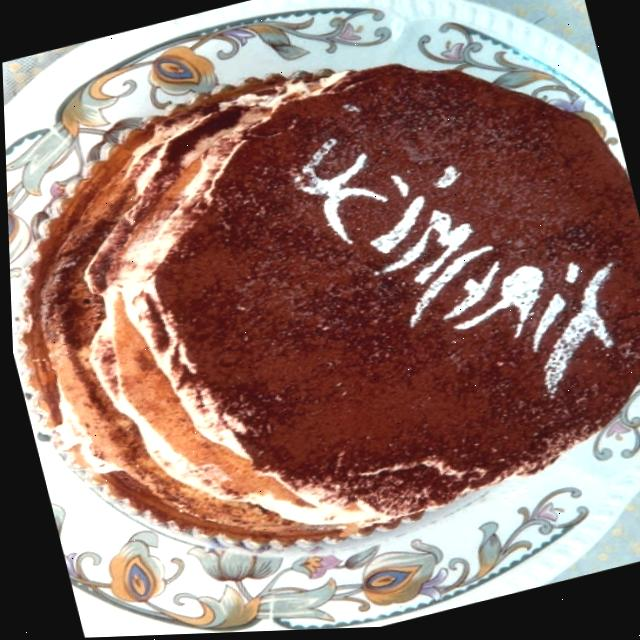蛋糕甜品: (0, 0, 640, 607)
